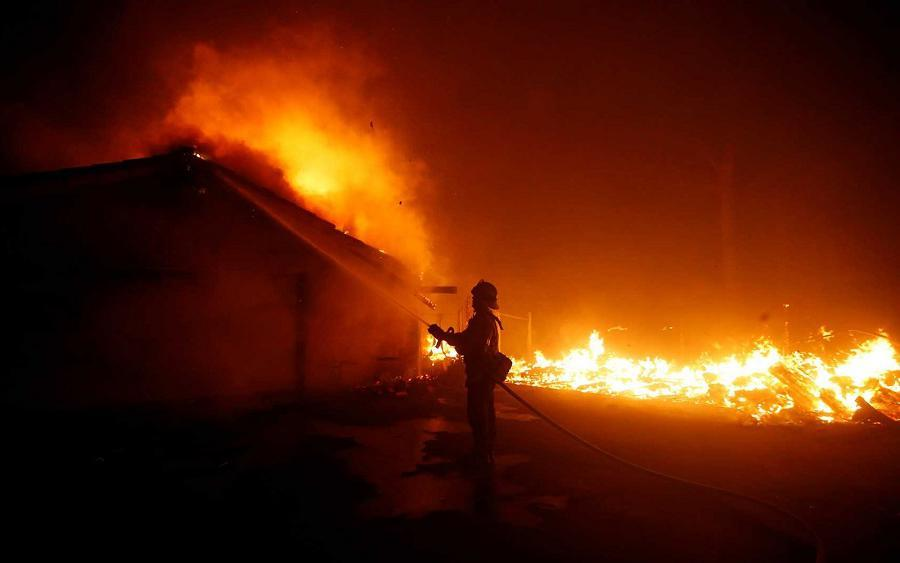Fire: (514, 324, 896, 422), (428, 339, 453, 361)
